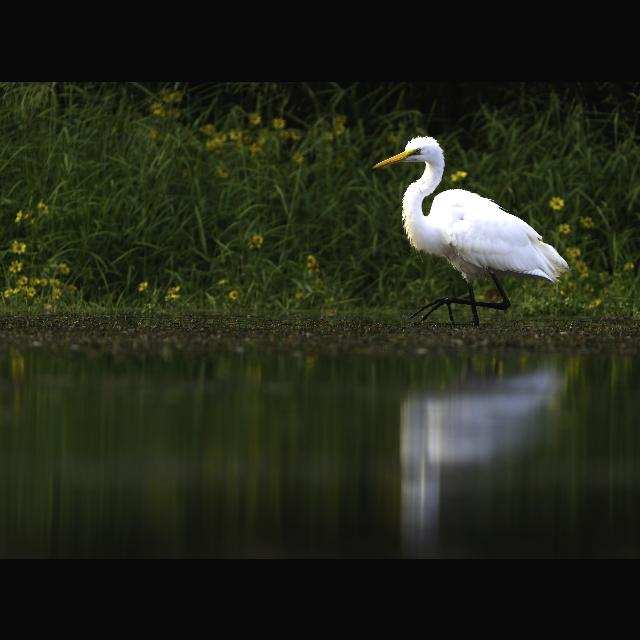egret: (369, 122, 571, 330)
